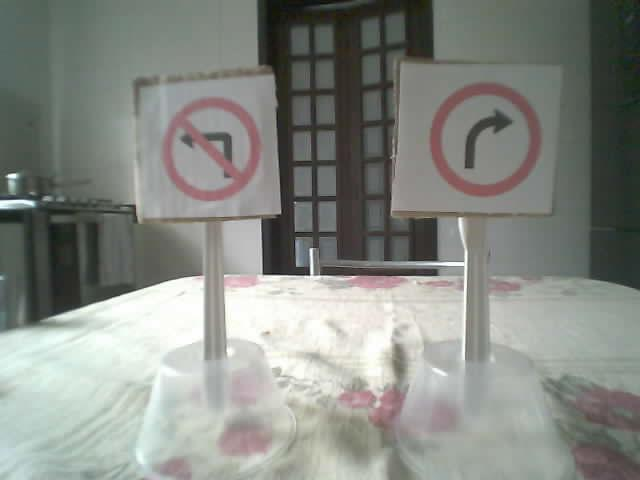R-25b_direita: (427, 82, 541, 197)
R-4a_proibido-esquerda: (162, 96, 261, 202)
